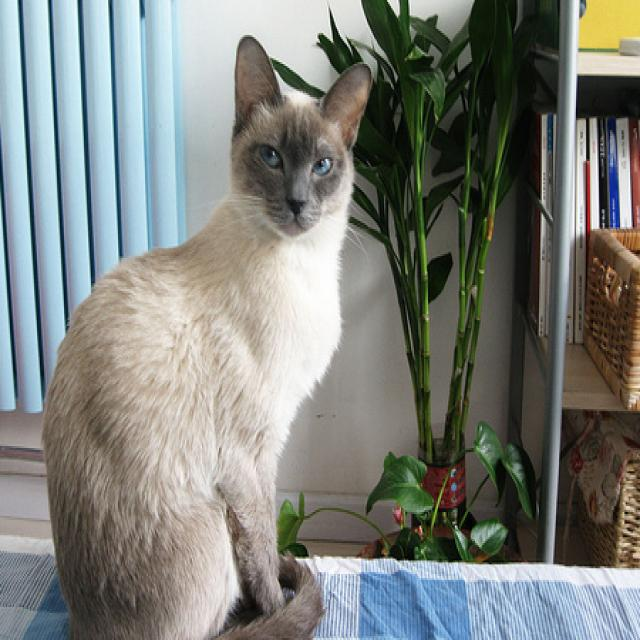Siamese: (40, 27, 375, 640)
